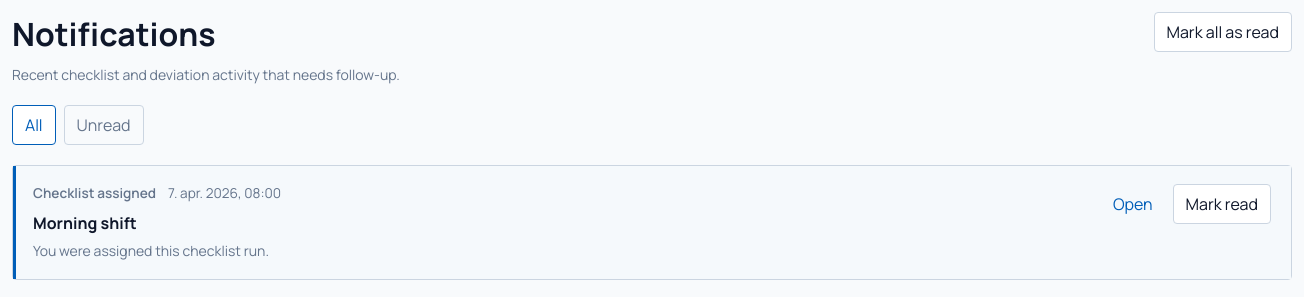
Test: NotificationsPage › loads notifications and marks an unread item as read
Step 1. Click the button with class "notification-read-button" → (1222,204), box x1=1173 y1=184 x2=1271 y2=224
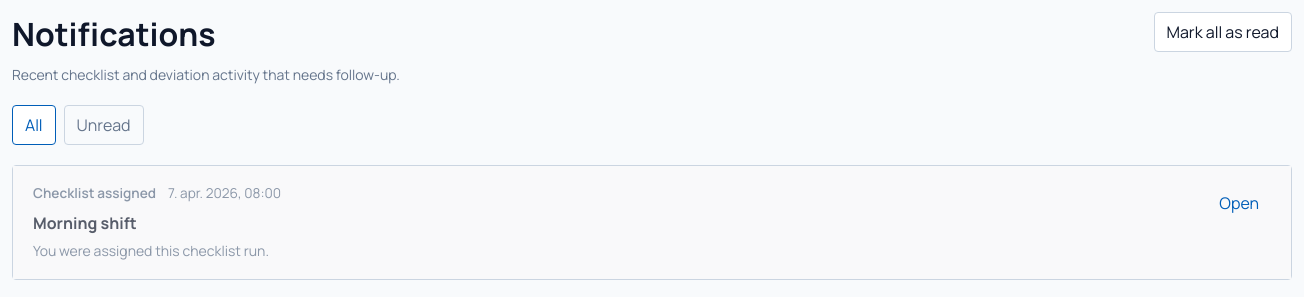
Expected: the element with class "notification-row-read" is shown, x1=13 y1=166 x2=1291 y2=279
